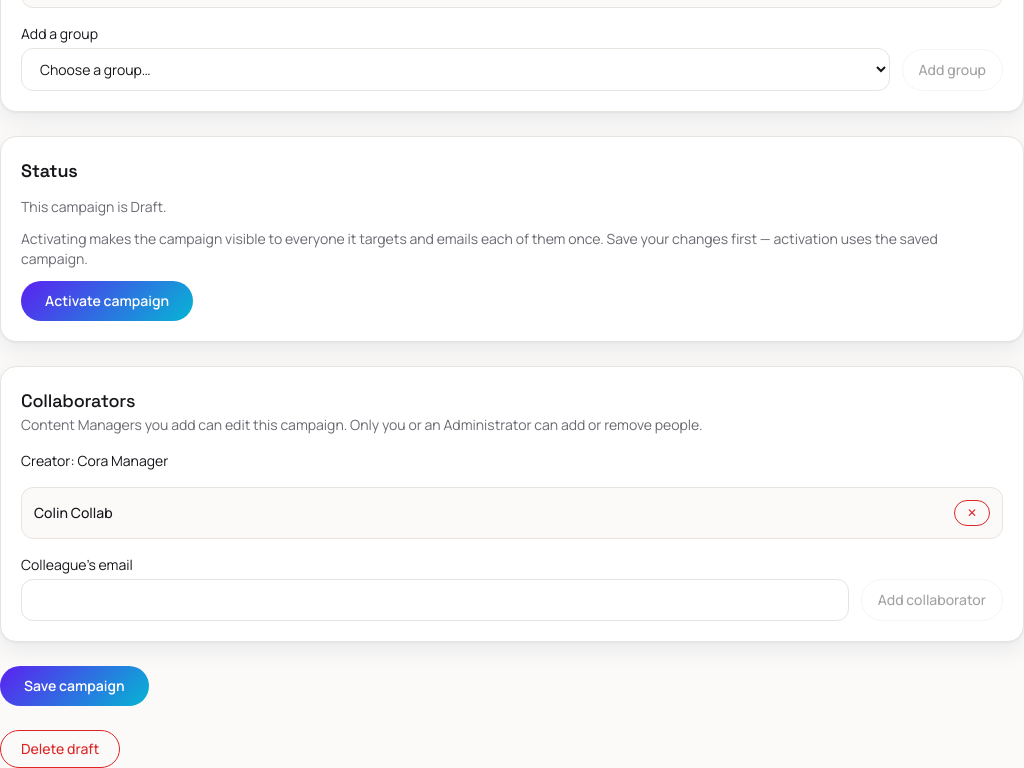
CampaignBuilderPage › lists collaborators and lets the creator add and remove one
(page scrolled)
Check: the text "Colin Collab" is shown, box left=34, top=503, right=112, bottom=523
Type "new@x.de" into the field labelled "Colleague's email" at [435, 600], box left=21, top=579, right=849, bottom=621
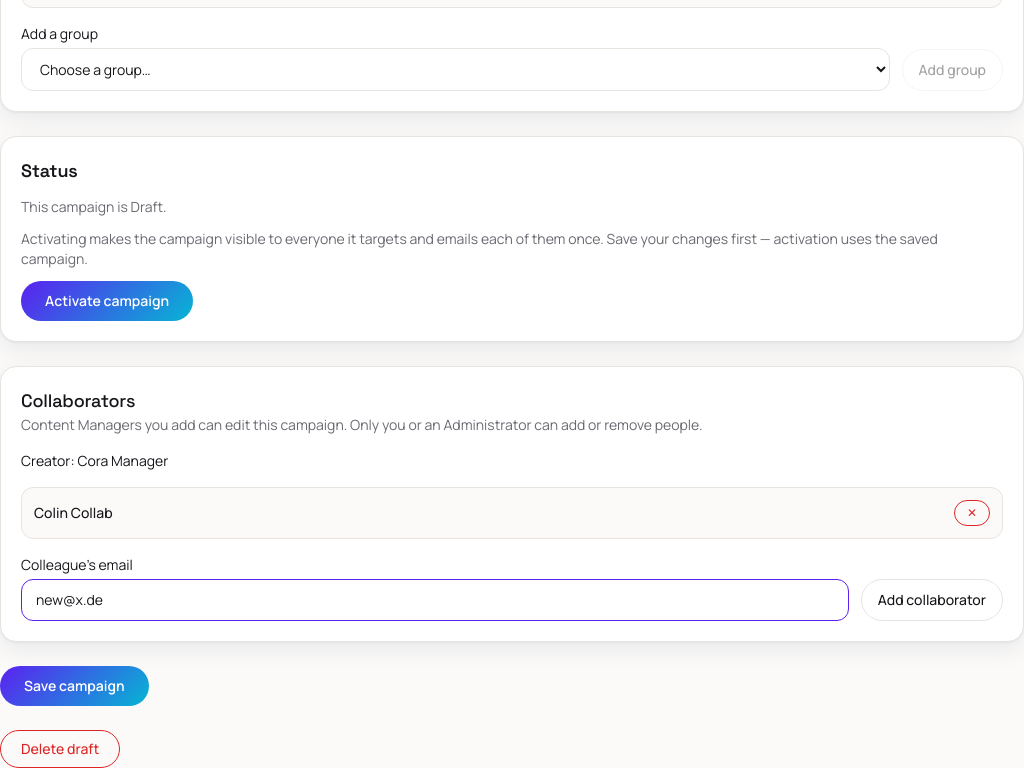
Click the button "Add collaborator" at [932, 600], box left=861, top=579, right=1003, bottom=621
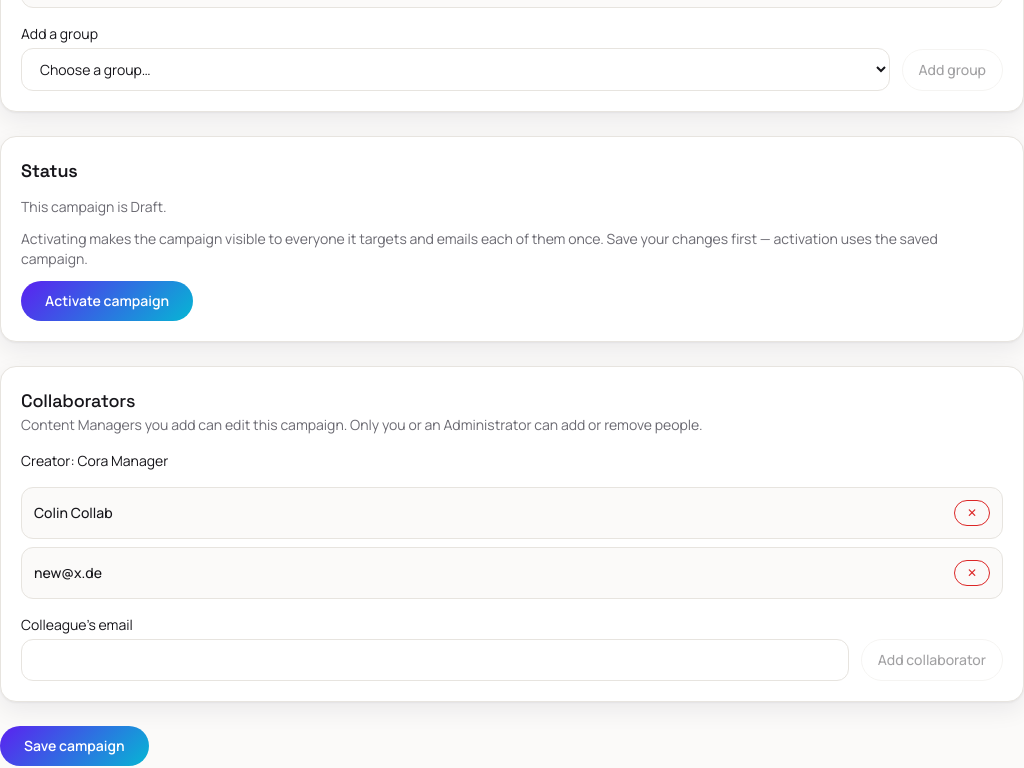
Check: the text "new@x.de" is shown, box left=34, top=563, right=102, bottom=583
Click the button named "Remove Colin Collab" at [972, 513], box left=954, top=500, right=990, bottom=526
(page scrolled)
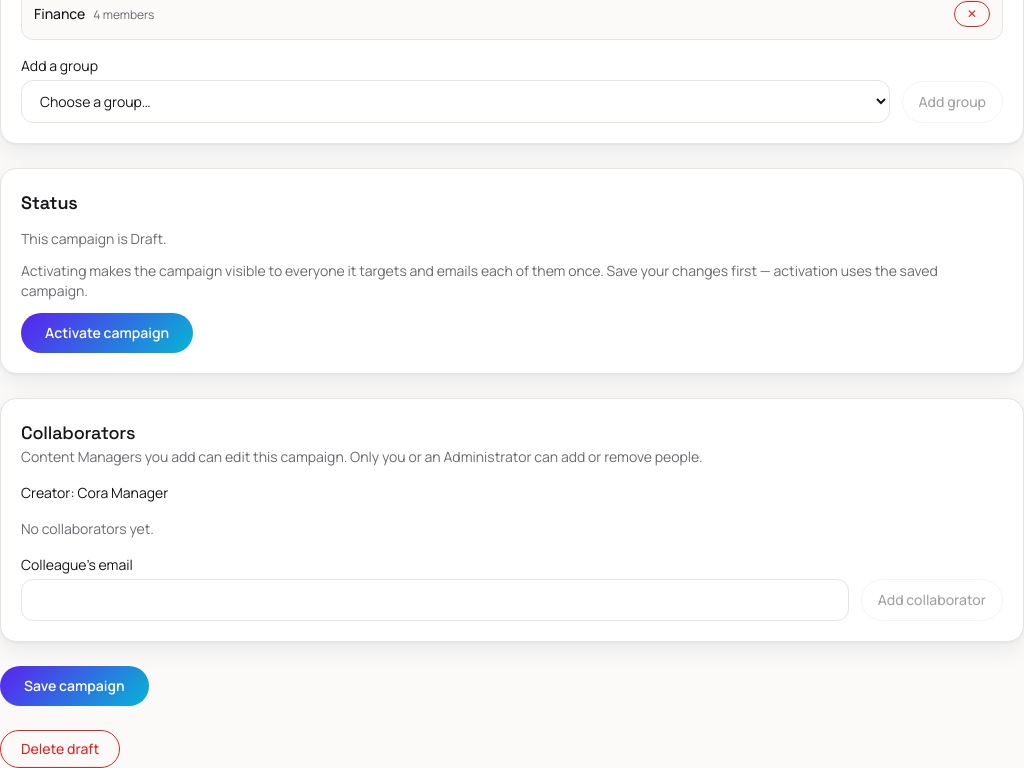
Check: the text "Colin Collab" is gone
